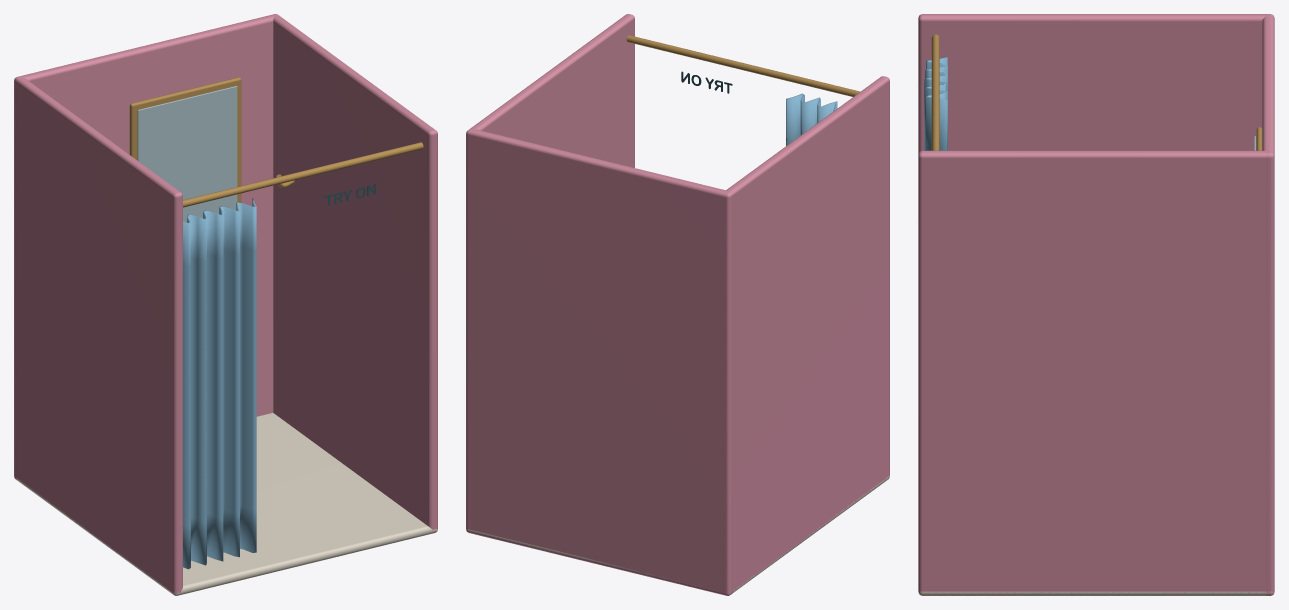
The model's file is cl_fitting.glb.
3 views of the same model, side by side, from view 1: azimuth 30°, elevation 25°; view 2: azimuth 150°, elevation 25°; view 3: azimuth 270°, elevation 25° (orthographic). The views are drawn at different scales.
Visible parts, largest first — view 1: prop; view 2: prop; view 3: prop.
Part boxes in pixels (box(x1,y1,x2,y2)): prop: box(14, 14, 437, 595); prop: box(466, 14, 889, 595); prop: box(918, 14, 1274, 595).
Bounding box in the file's own units: 1.65 × 2.4 × 1.75.
